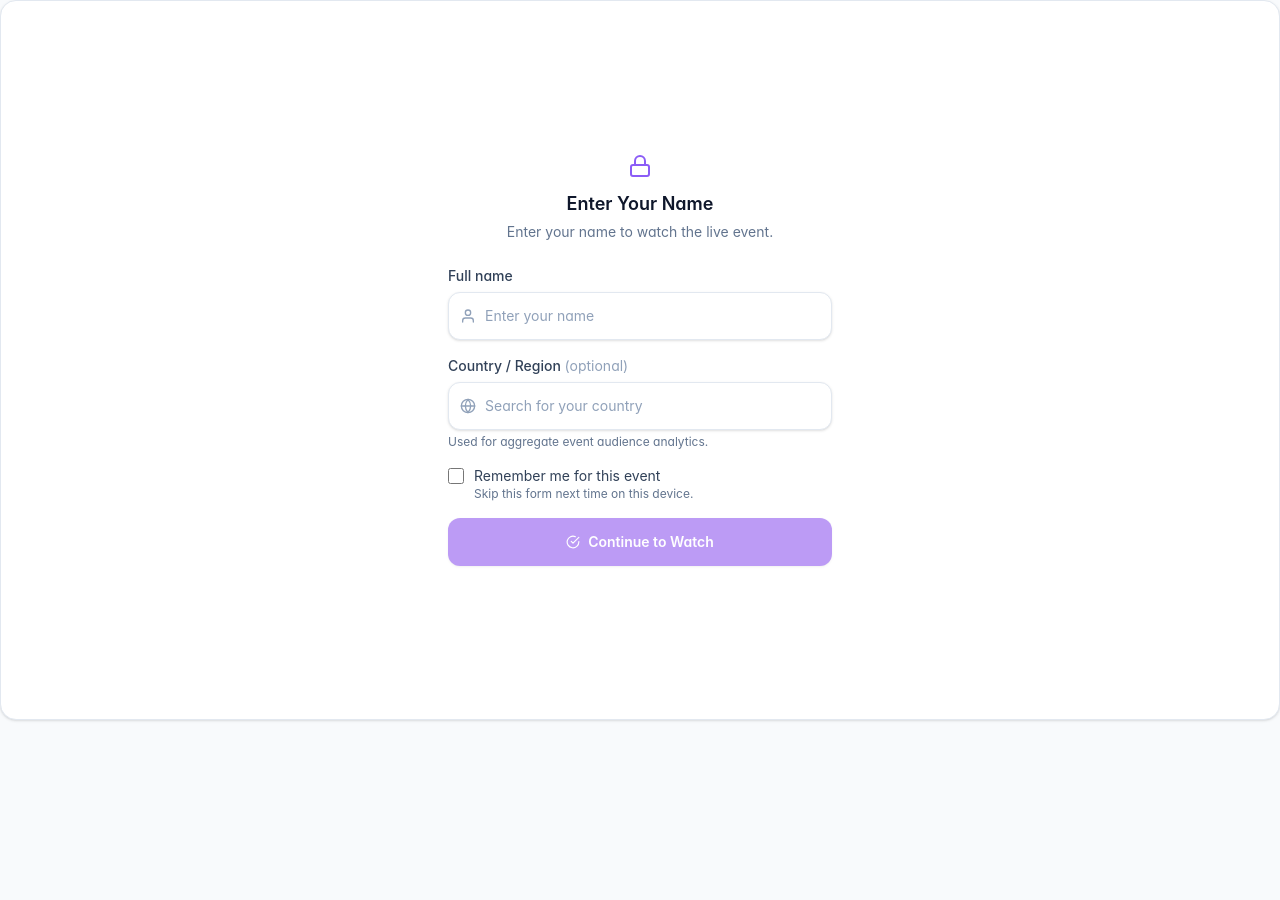
Test: the Country / Region field › refuses something that is not a country, inline, without registering
Type "NANI" into the field with placeholder "Enter your name".
click(640, 316); type("NANI")  # box [448, 292, 832, 340]
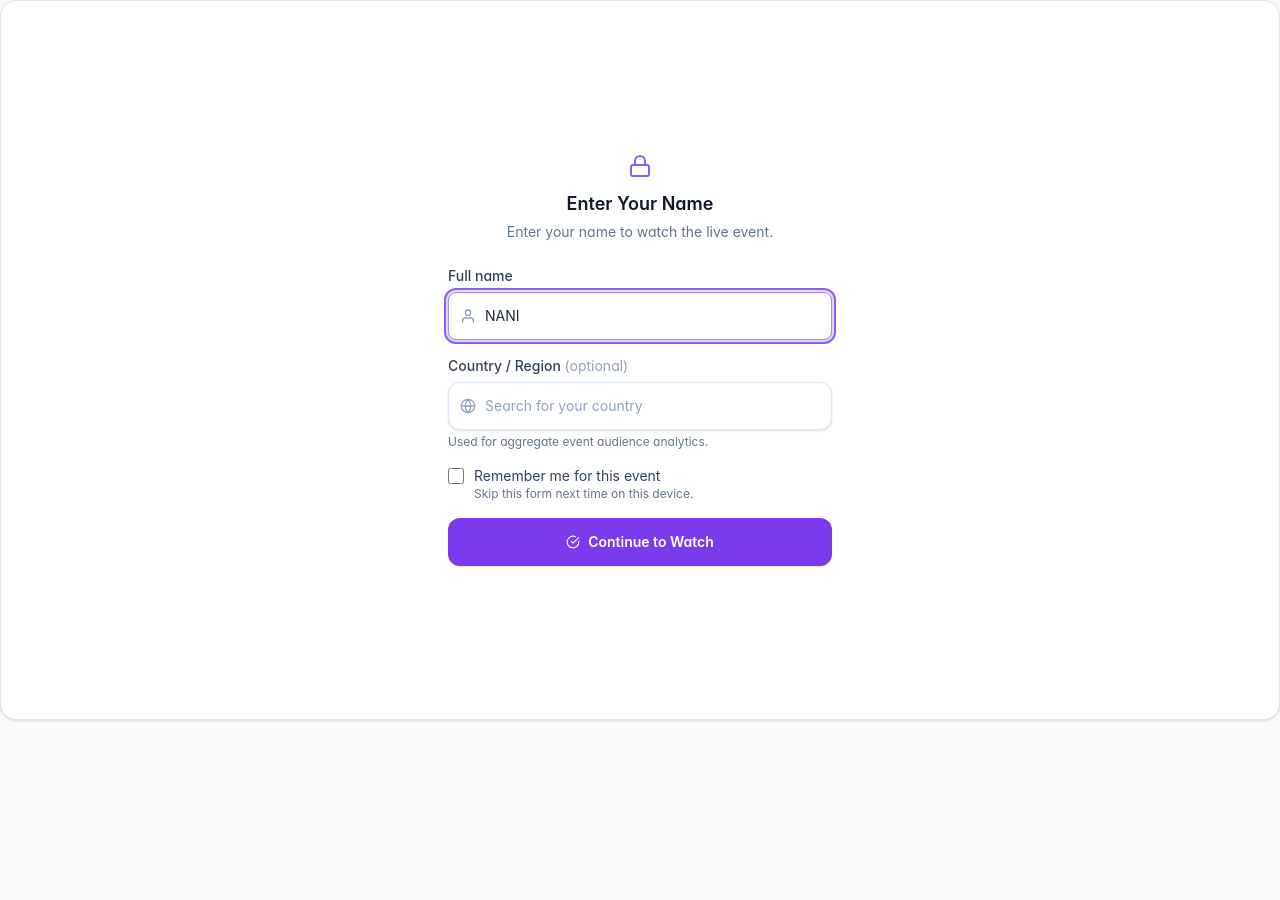
Type "Atlantis" into the field labelled "Country / Region (optional)".
click(640, 406); type("Atlantis")  # box [448, 382, 832, 430]
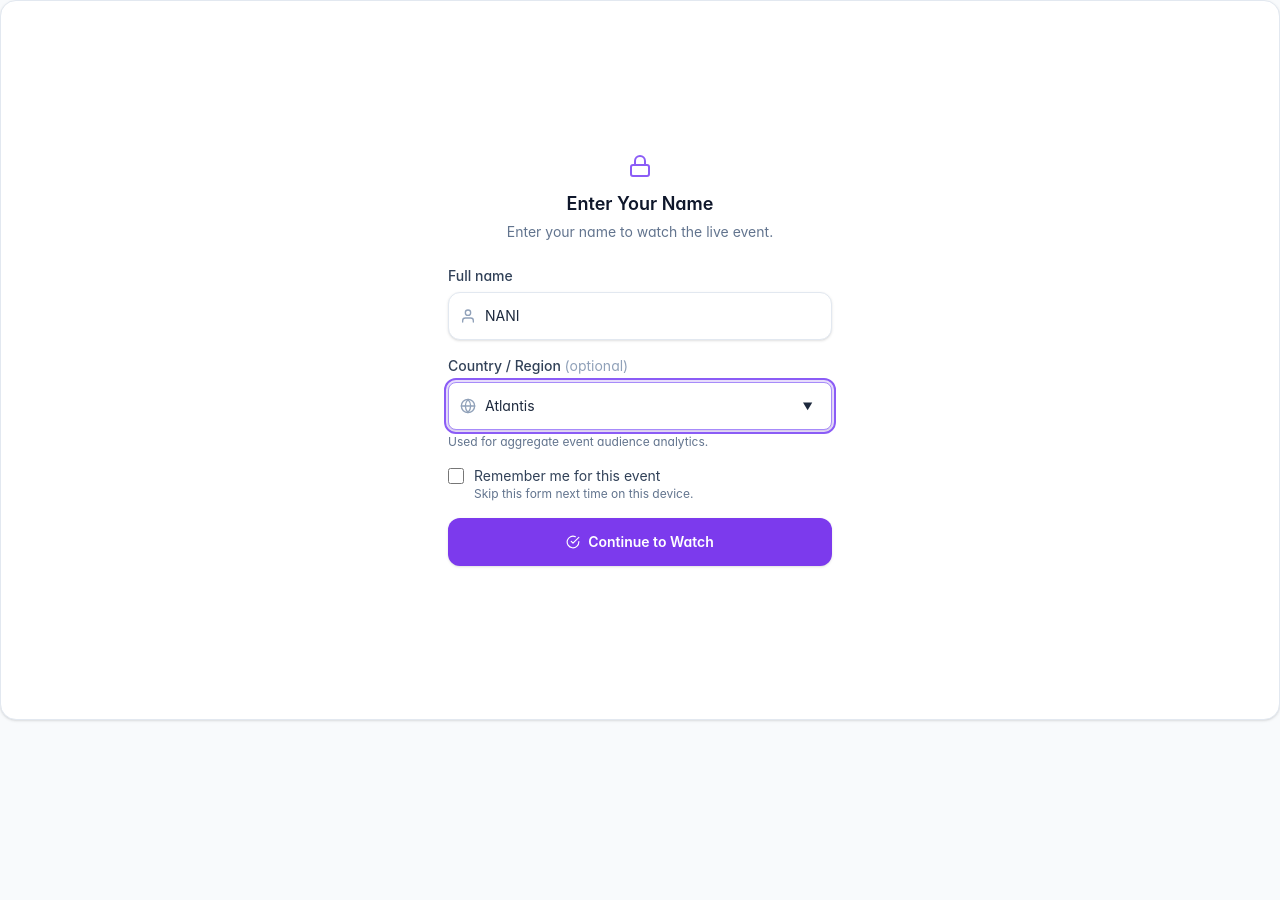
Click the button "Continue to Watch".
click(640, 542)  # box [448, 518, 832, 566]
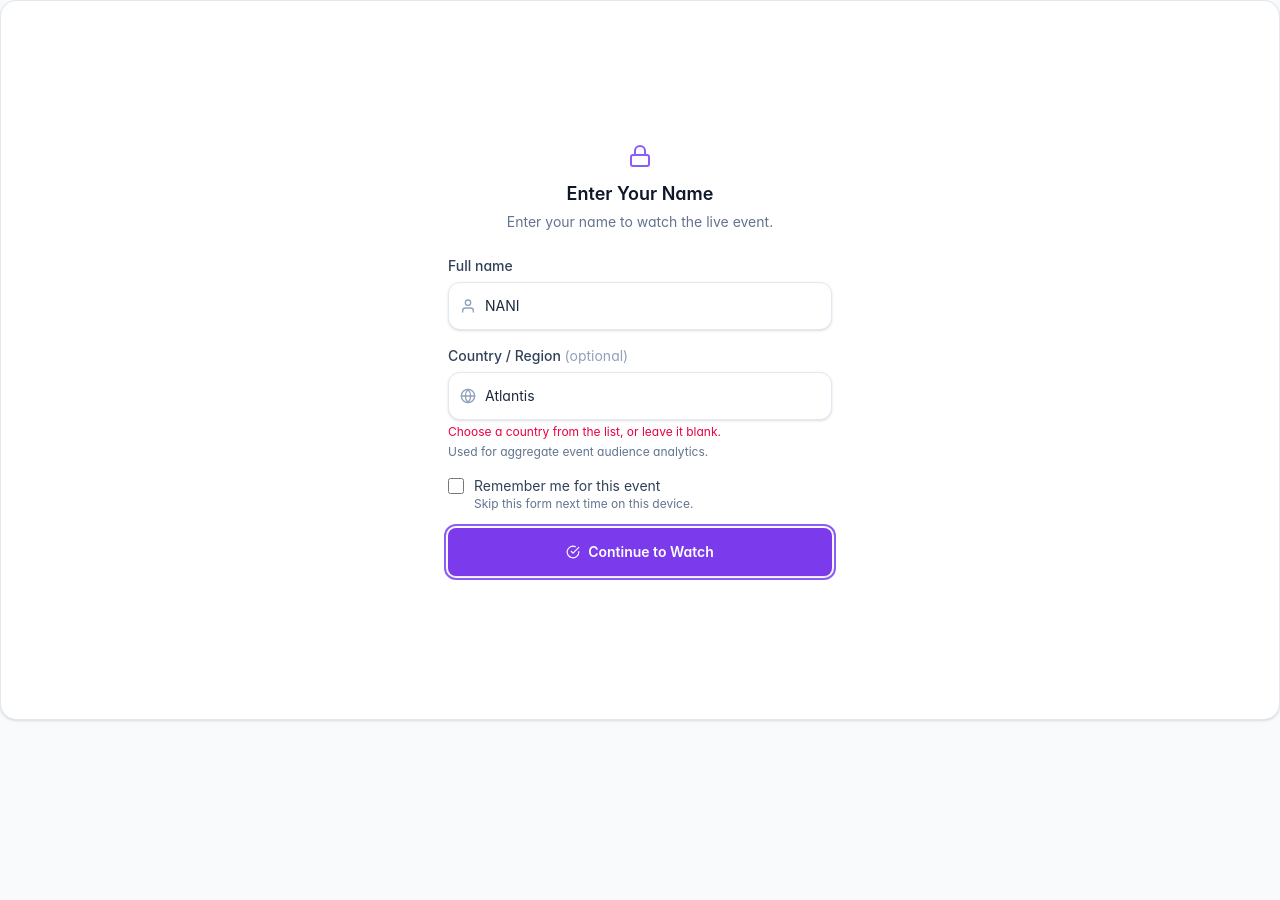
Check: the text "Choose a country from the list, or leave it blank." is shown, box [448, 424, 721, 439]
